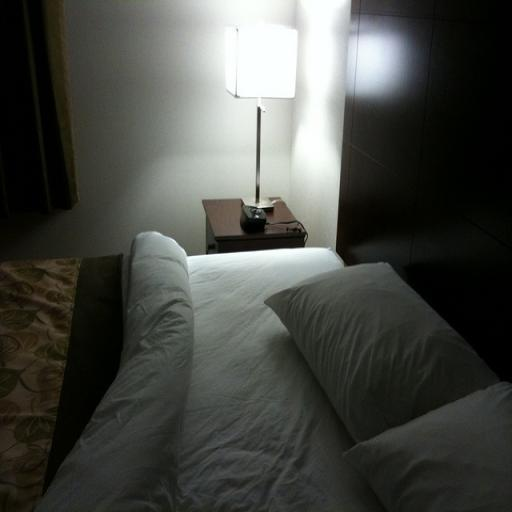bed: (13, 222, 507, 512)
